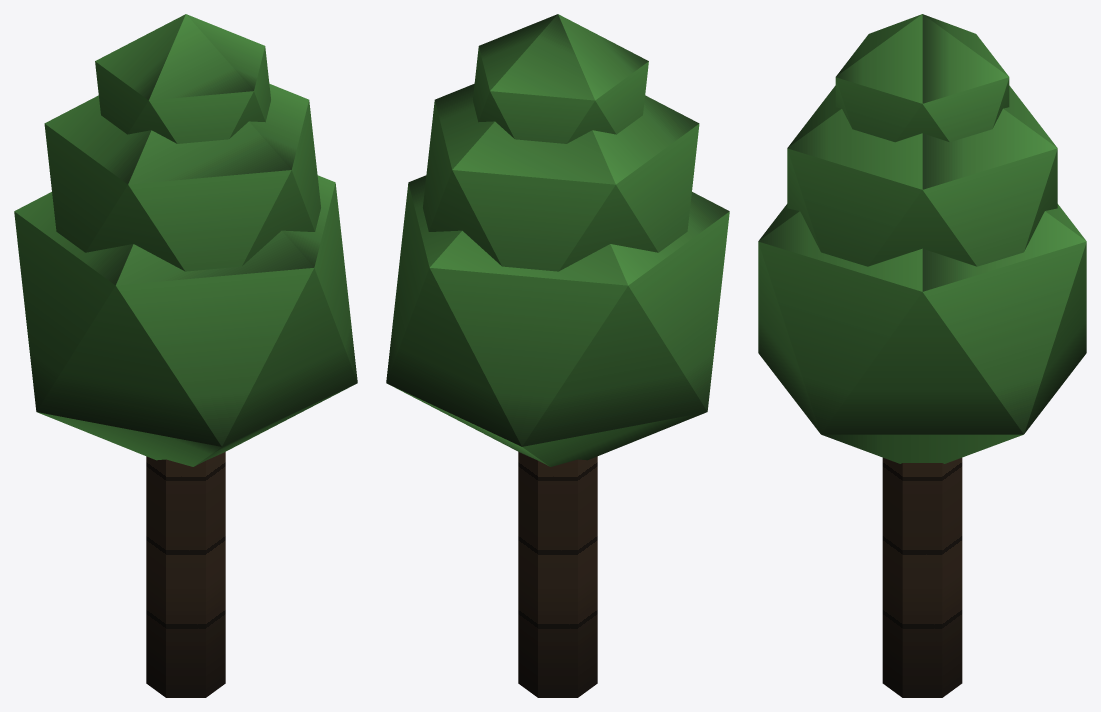
Rendered from tree.gltf.
3 views of the same model, side by side, from view 1: azimuth 30°, elevation 25°; view 2: azimuth 150°, elevation 25°; view 3: azimuth 270°, elevation 25° (orthographic).
Visible parts, largest first — view 1: tree; view 2: tree; view 3: tree.
Part boxes in pixels (x1,y1,x2,y2): tree: [14, 14, 357, 697]; tree: [386, 14, 729, 697]; tree: [758, 14, 1086, 697].
Size of the model in its own units: 0.6082 by 1.3 by 0.5784.
1 material, 1 textured.
